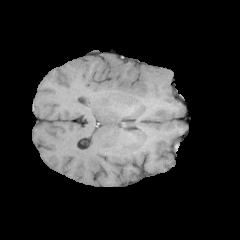glioma: (83, 67, 171, 125)
